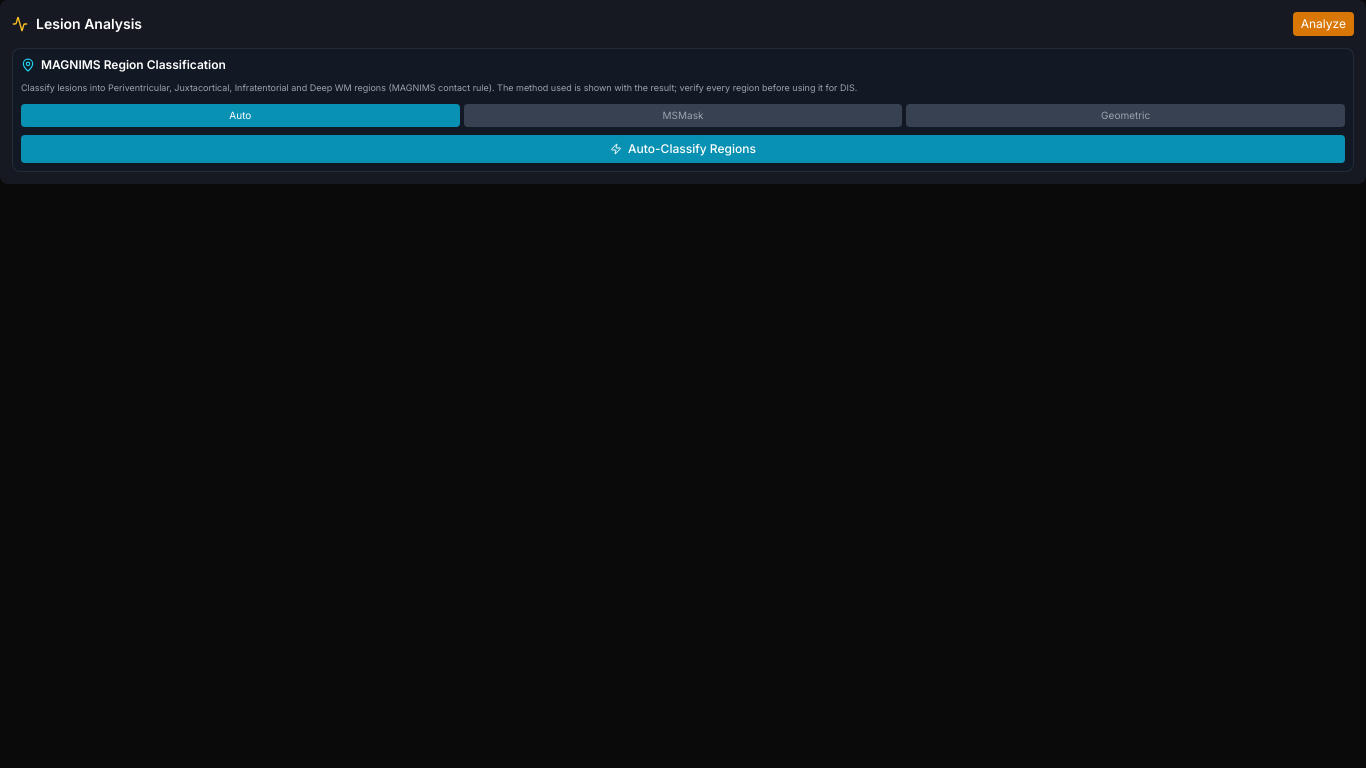
N1: one region per lesion; region corrections are listed and acknowledged › rc071 review2 a refused confirmation shows the server reason
Click the button "Analyze".
click(1323, 24)  # box [1293,12,1354,36]
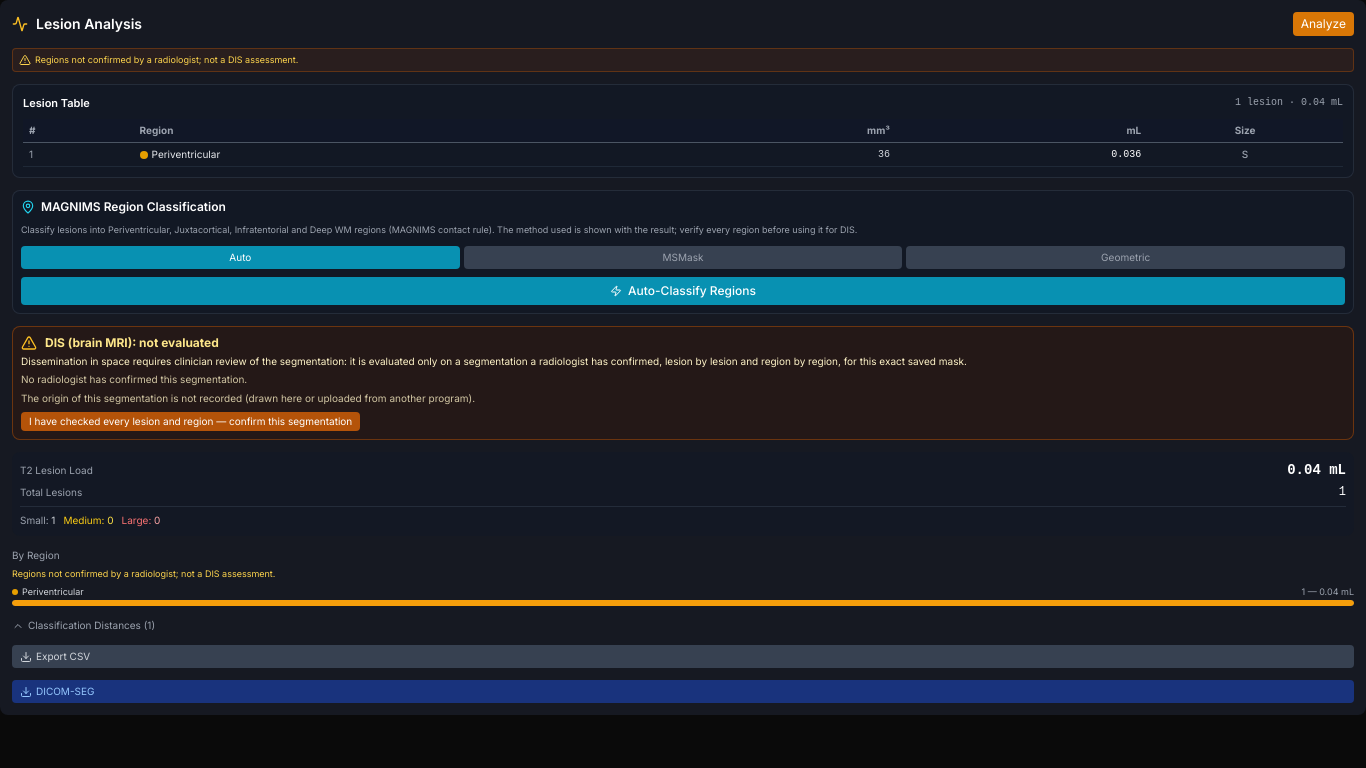
Click the button "confirm this segmentation".
click(191, 422)  # box [21,412,360,431]
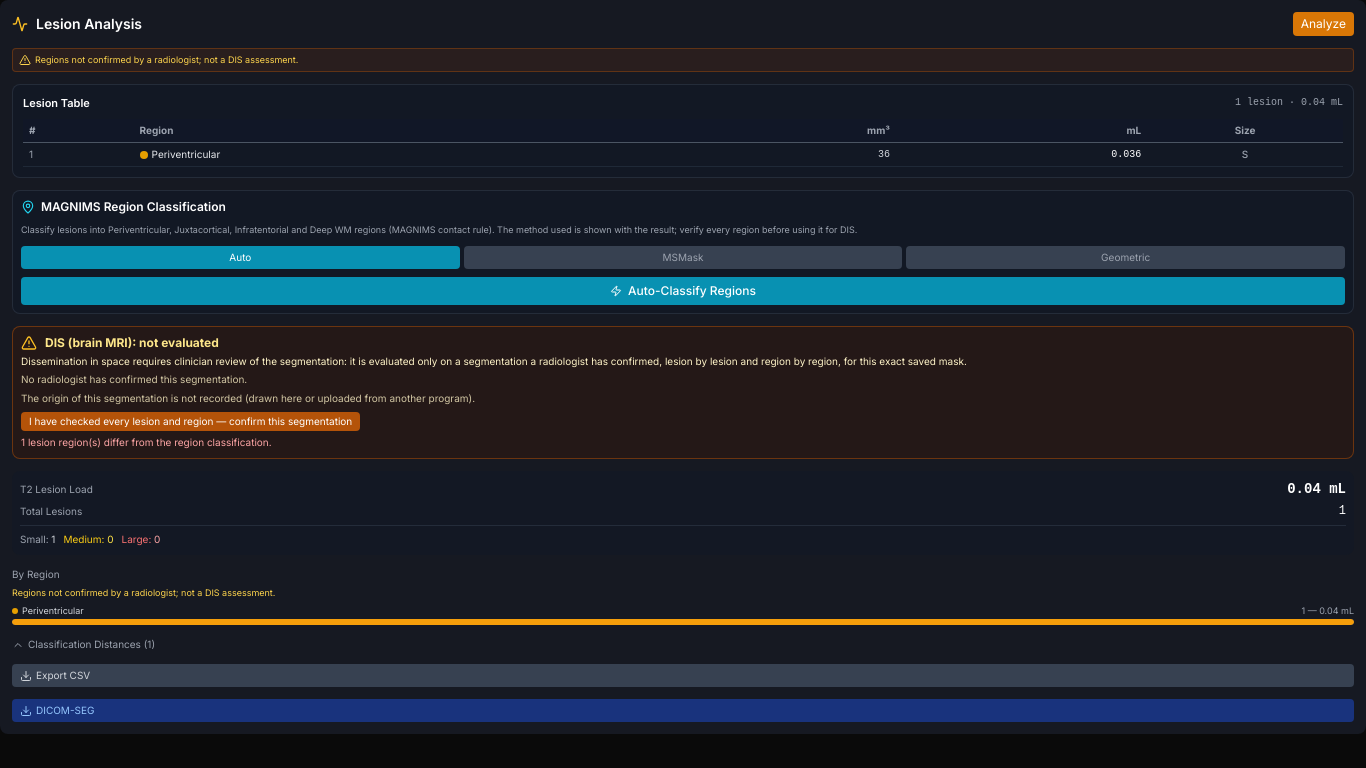
Check: the message with test id "dis-not-evaluated" shows "1 lesion region(s) differ from the region classification.", box [21,436,272,448]
